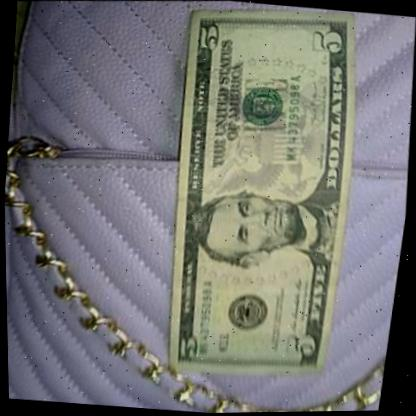five-front: (128, 0, 398, 401)
